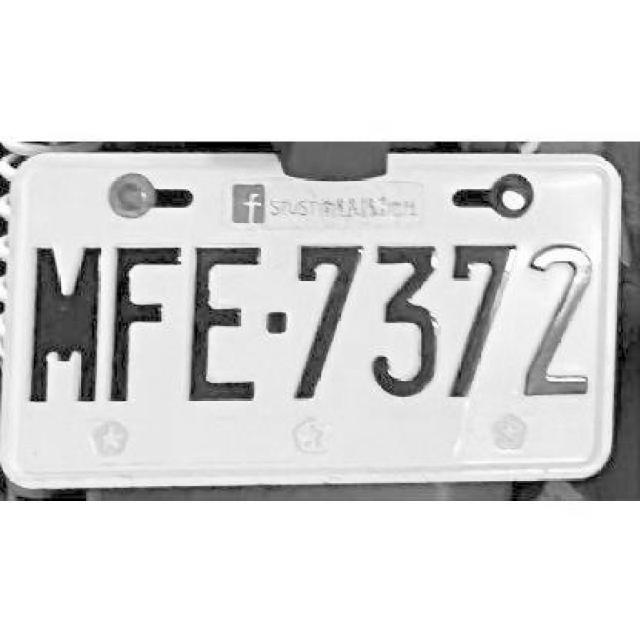-: (268, 306, 288, 332)
2: (518, 240, 588, 398)
3: (369, 243, 443, 406)
7: (292, 242, 365, 403), (448, 238, 517, 397)
E: (182, 242, 260, 406)
F: (105, 237, 180, 401)
M: (27, 239, 104, 406)
